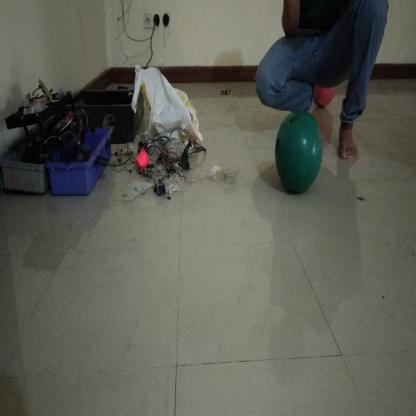green_buoy: (274, 108, 325, 200)
red_buoy: (312, 85, 335, 108)
